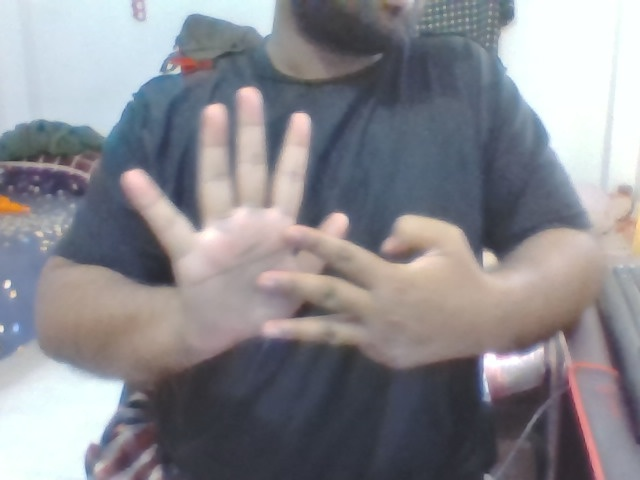M: (114, 86, 484, 404)
